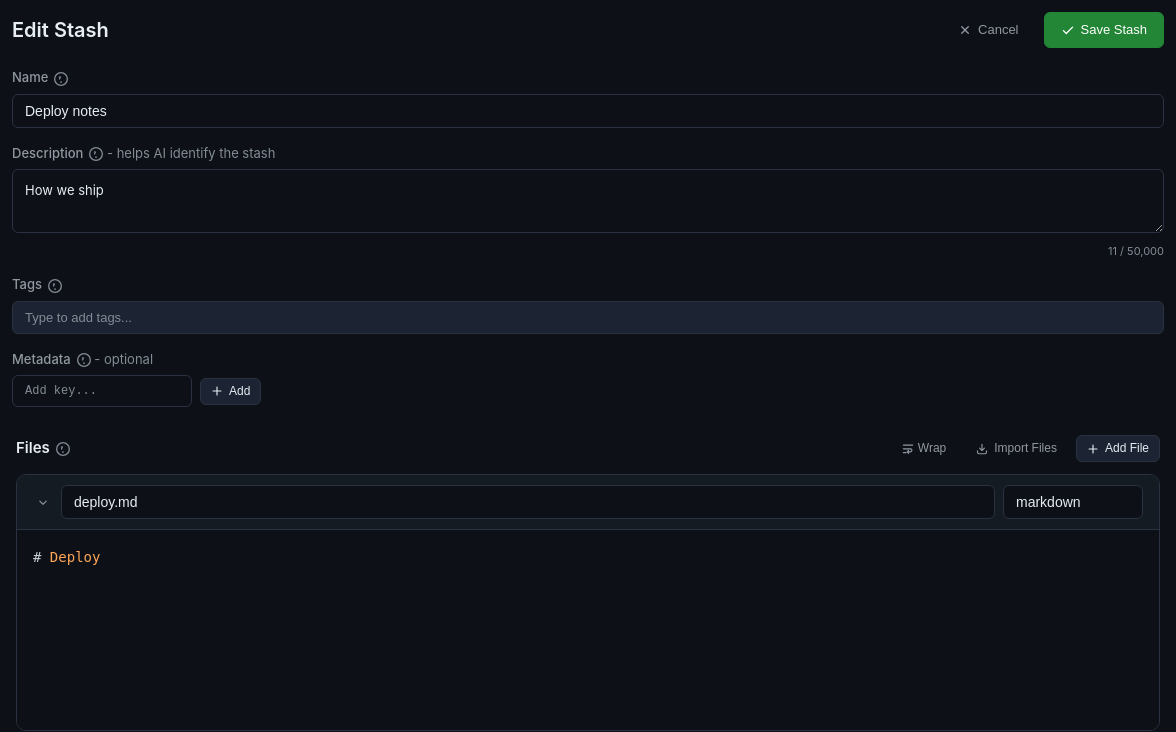
Test: StashEditor unsaved-changes indicator › tracks the same state the unload guard uses — an edit anywhere in the form arms it
This screenshot has width=1176, height=732.
Replace the text in the text box labelled "Description - helps AI identify the stash" with "changed" at {"x": 588, "y": 201}, box [12,169,1164,233]
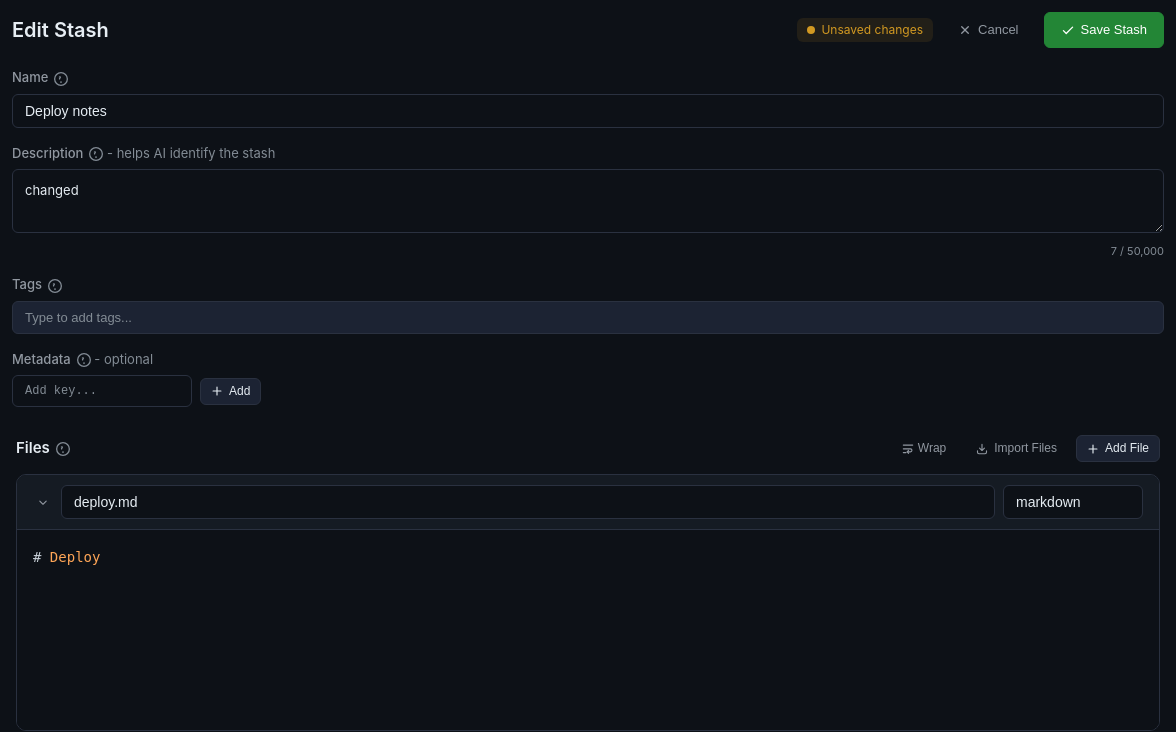
expect the message "Unsaved changes" is shown: met, box [797,18,933,42]
